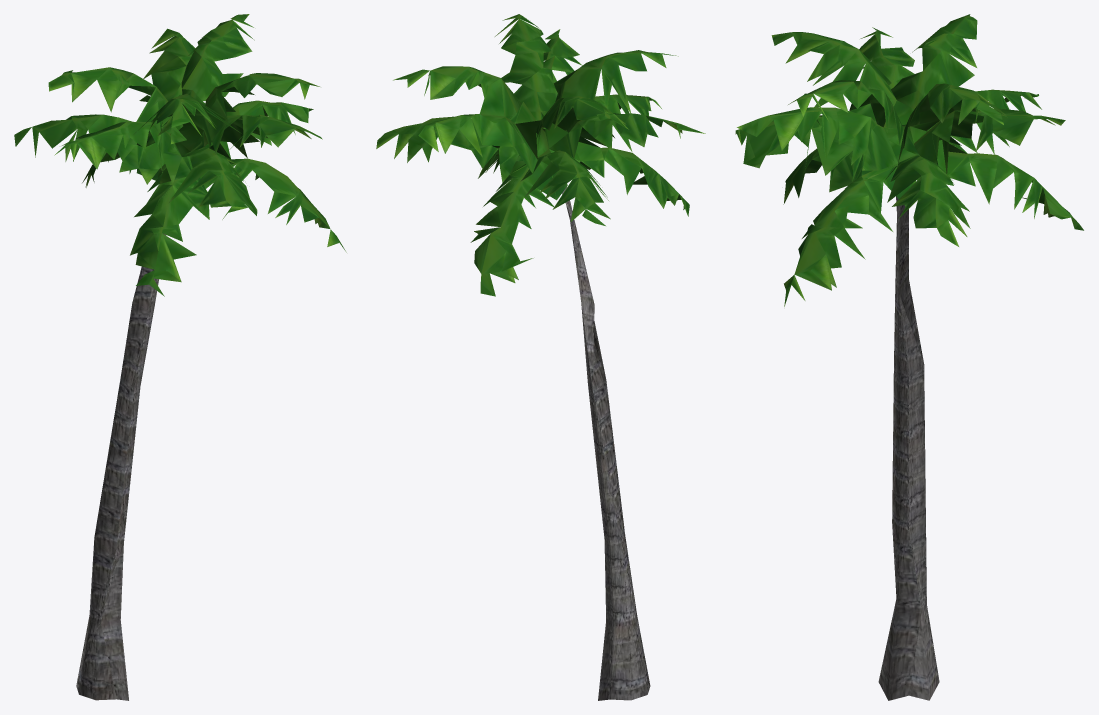
File: palm-far.glb
3 renders of one model, left to right at view 1: azimuth 30°, elevation 25°; view 2: azimuth 150°, elevation 25°; view 3: azimuth 270°, elevation 25°, orthographic. The views are drawn at different scales.
Parts seen in each view (by area): view 1: palm-far; view 2: palm-far; view 3: palm-far.
Boxes of the visible parts, left/top/right/bottom form: palm-far: left=14, top=14, right=346, bottom=700; palm-far: left=376, top=14, right=705, bottom=700; palm-far: left=735, top=14, right=1083, bottom=700.
Bounding box in the file's own units: 3.7 × 7.38 × 3.44.
Materials: 2 (2 with a texture image).
